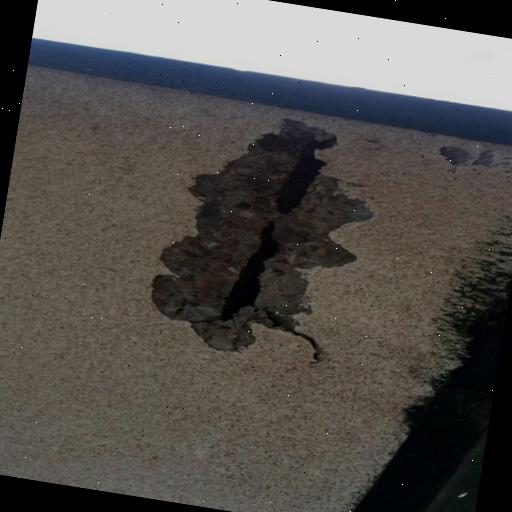spalling: (128, 78, 394, 390)
